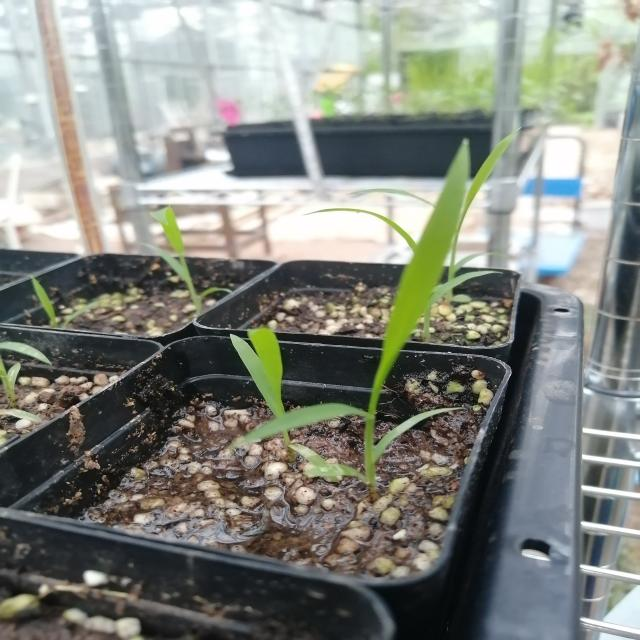crabgrass: (188, 162, 489, 483)
